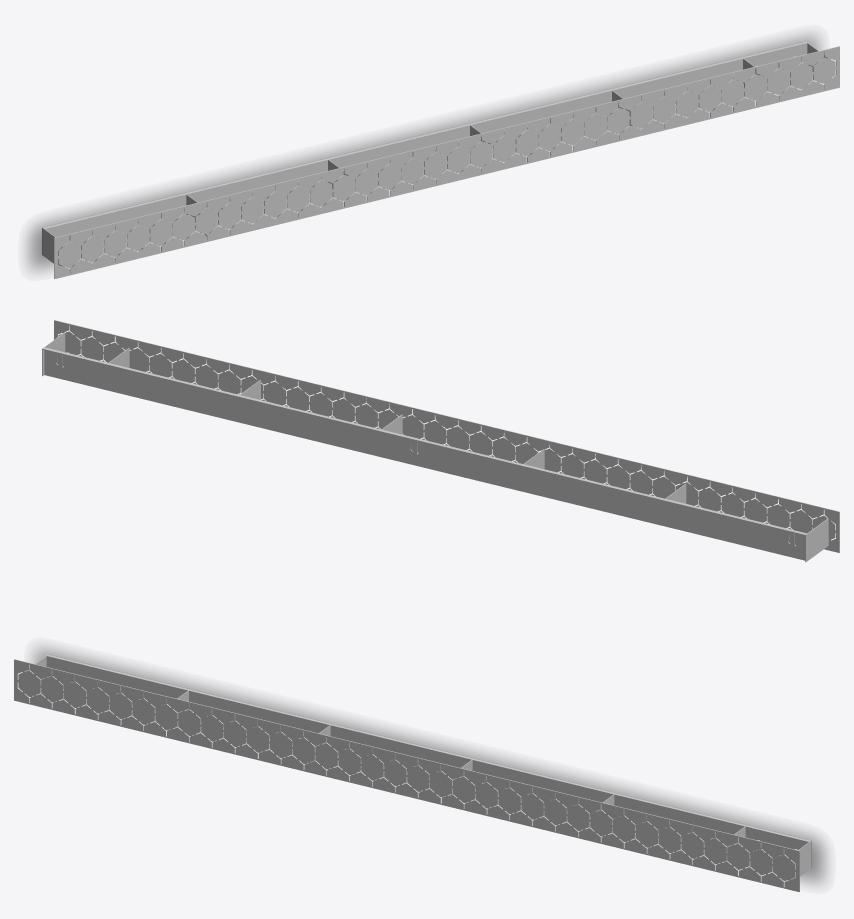
Rendered from bee-patron.60bfb8ec5b.ar.glb.
3 renders of one model, top to bottom at view 1: azimuth 30°, elevation 25°; view 2: azimuth 150°, elevation 25°; view 3: azimuth 330°, elevation 25°, orthographic.
Parts seen in each view (by area): view 1: NAUO1, object 2; view 2: NAUO1; view 3: NAUO1, object 2.
Boxes of the visible parts, x1,y1,x2,y2 form: NAUO1: [42, 41, 839, 278]; object 2: [26, 34, 821, 271]; NAUO1: [42, 320, 839, 562]; NAUO1: [14, 654, 811, 891]; object 2: [32, 647, 827, 884].
Bounding box in the file's own units: 1.88 × 0.17 × 0.092.
Materials: 2 (1 with a texture image).
